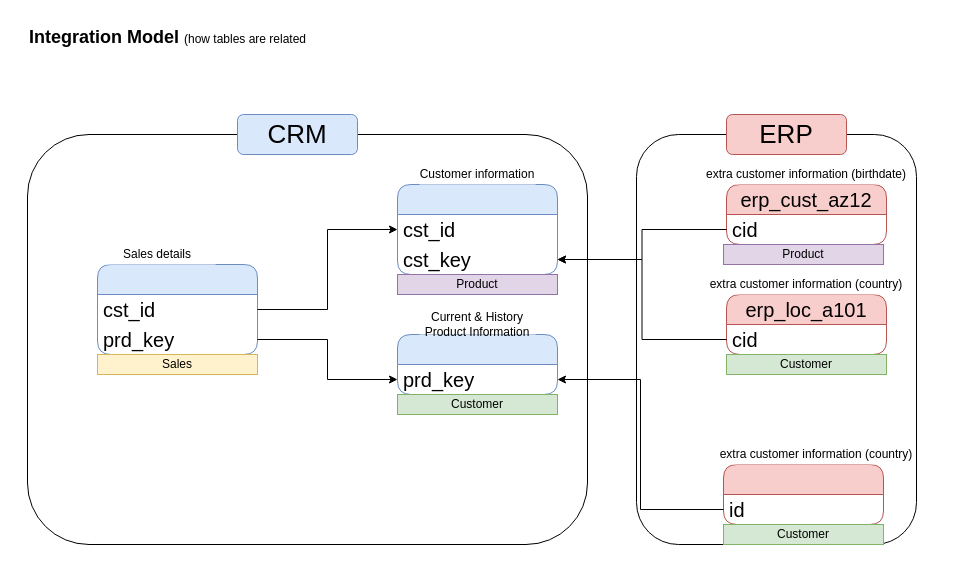
The diagram is 953 pixels wide and 562 high, and some of its shapes have lost their labels. Here are the shapes that lost their labels. From the top down, the box of each, then its label:
(396, 184, 558, 274): crm_cust_info
(96, 264, 258, 354): crm_sales_details
(396, 334, 558, 394): crm_prod_info
(722, 464, 884, 524): erp_px_cat_g1v2
